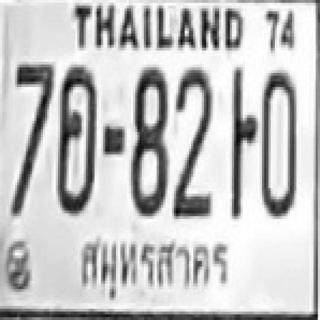N00: (56, 63, 95, 212), (259, 67, 295, 216)
N01: (230, 95, 256, 216)
N02: (171, 94, 212, 215), (173, 66, 212, 192)
N07: (8, 63, 52, 215), (15, 62, 52, 166)
N08: (129, 66, 165, 215)
P58: (76, 232, 234, 301)
